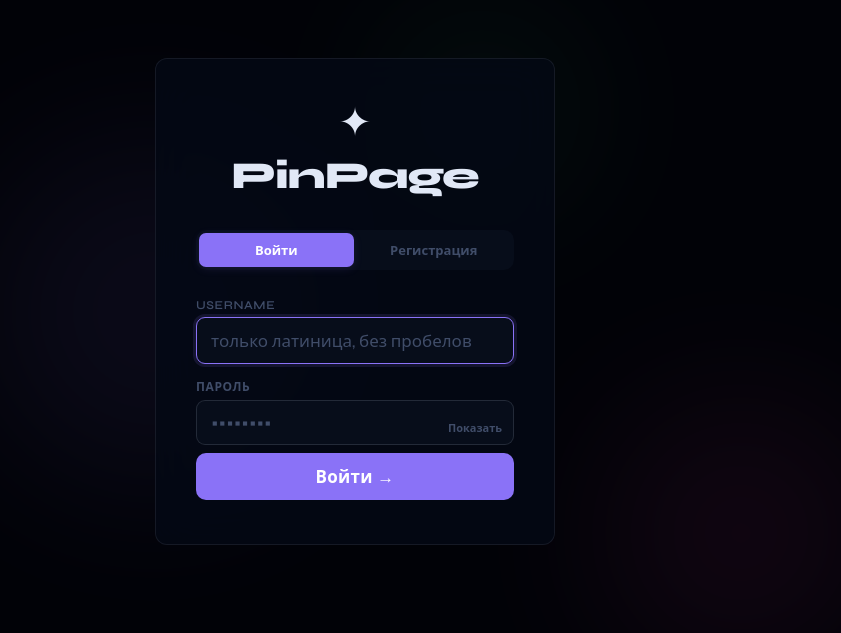
PinPage smoke › переключается на регистрацию и показывает поле имени
Click the button "Регистрация": (434, 250) 356,232 -> 511,266
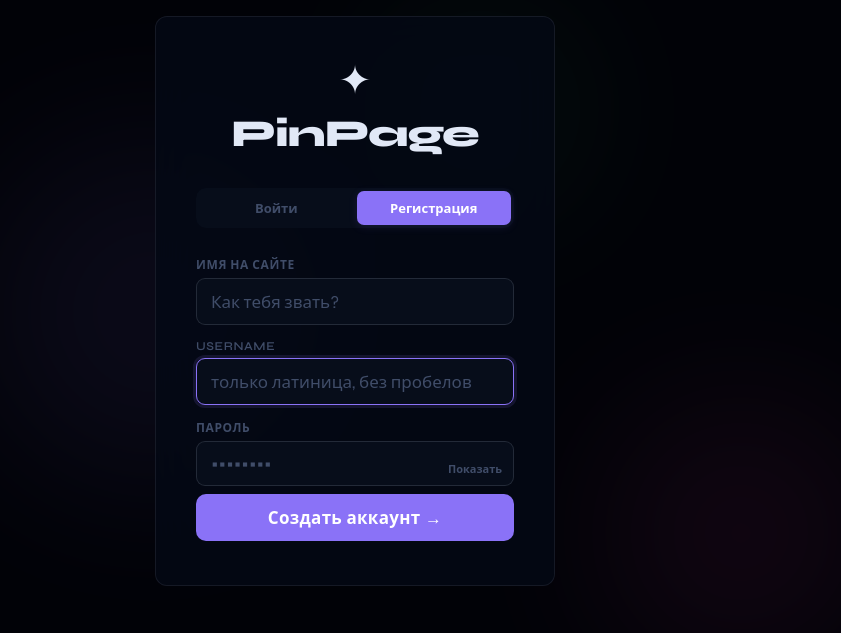
Now the field with placeholder "Как тебя звать?" is shown, box 196,278 -> 514,325
Now the button "Создать аккаунт →" is shown, box 196,494 -> 514,541
